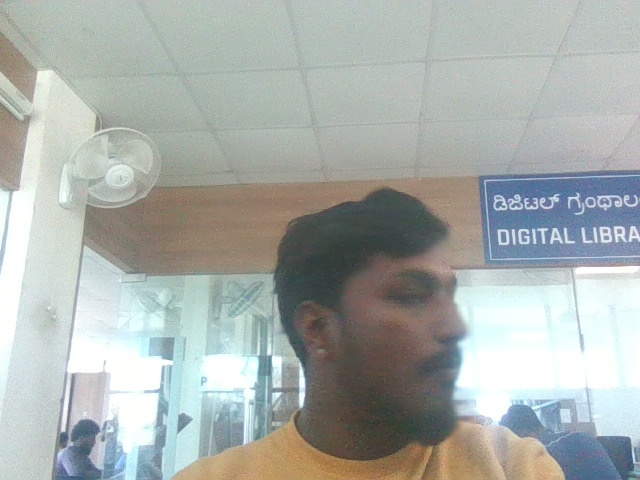real: (314, 178, 482, 416)
